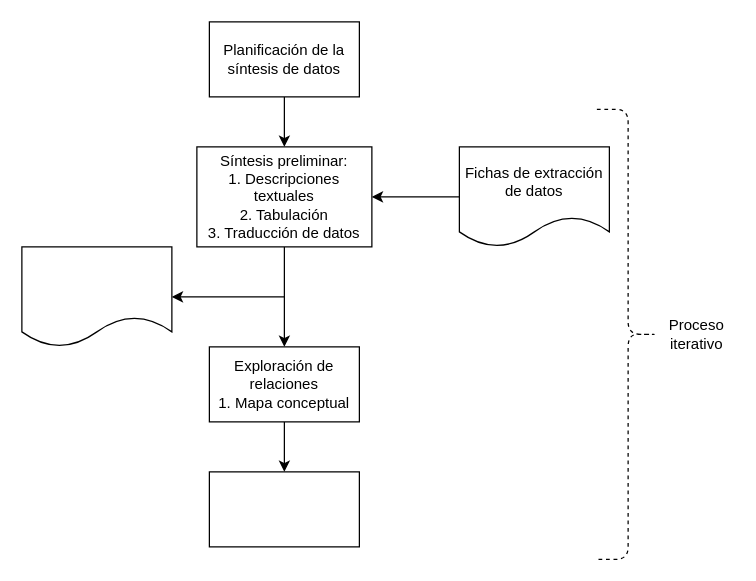
Some shapes in this 756 by 581 pixel diagram are drawn without their labels. Each missing label, with the centre of its shape:
Evaluación de la solidez 1. Reflexión crítica: point (283, 509)
Teoría del cambio: point (96, 296)
